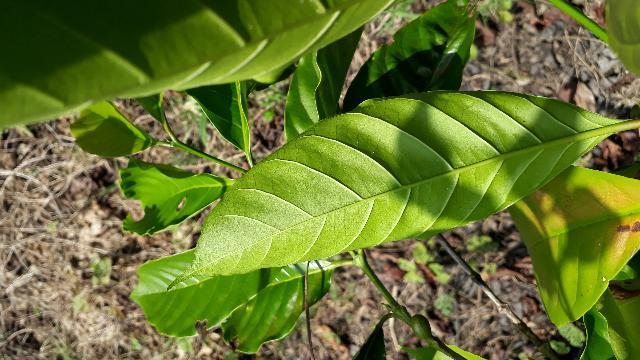healthy: (23, 70, 477, 271)
